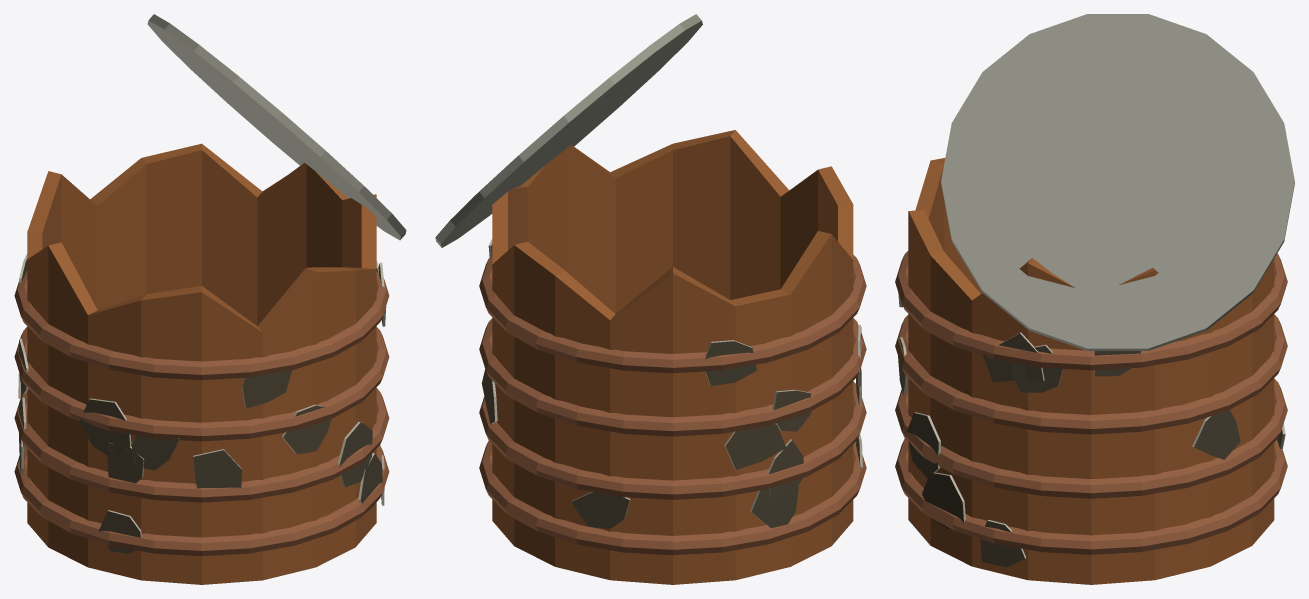
File: Tin_Open_Rusted.glb
The picture shows the model from 3 angles, left to right: view 1: azimuth 30°, elevation 25°; view 2: azimuth 150°, elevation 25°; view 3: azimuth 270°, elevation 25°; orthographic projection. The views are drawn at different scales.
Visible parts, largest first — view 1: Litter; view 2: Litter; view 3: Litter.
Part boxes in pixels (x1,y1,x2,y2): Litter: (14,14,406,584); Litter: (435,14,866,584); Litter: (895,14,1294,584).
Size of the model in its own units: 0.2379 by 0.3056 by 0.226.
